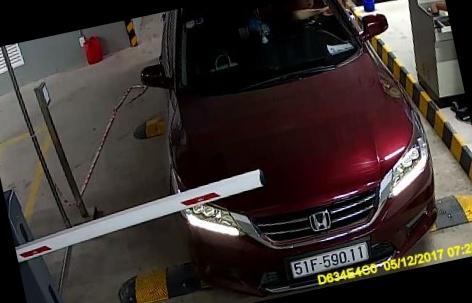plate: (281, 240, 383, 280)
